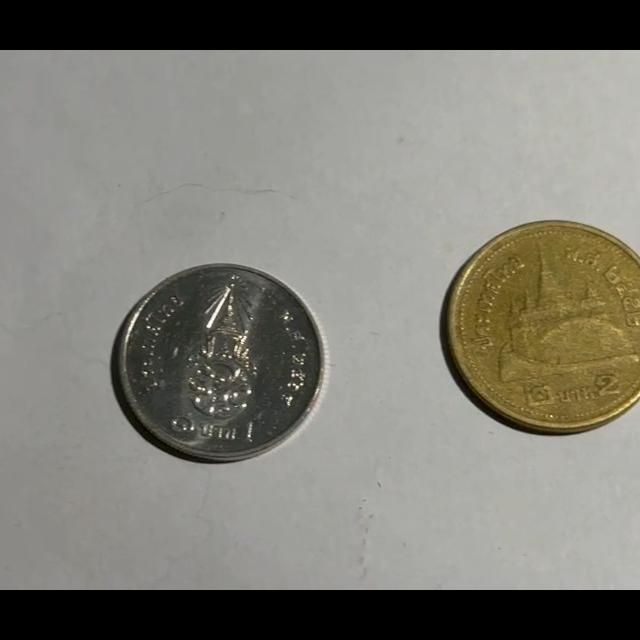1-baht: (111, 265, 325, 463)
2-baht: (443, 221, 640, 433)
